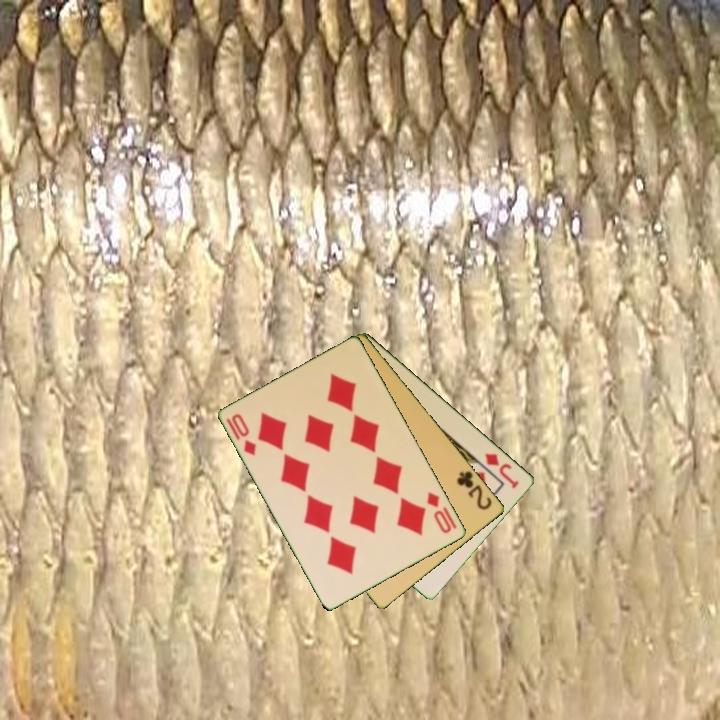10d: (223, 410, 260, 459), (423, 488, 455, 536)
2c: (453, 467, 495, 513)
Jd: (482, 449, 522, 491)
